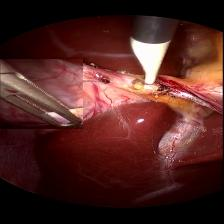Grasper: (0, 58, 83, 128)
Hook: (125, 36, 173, 92)
